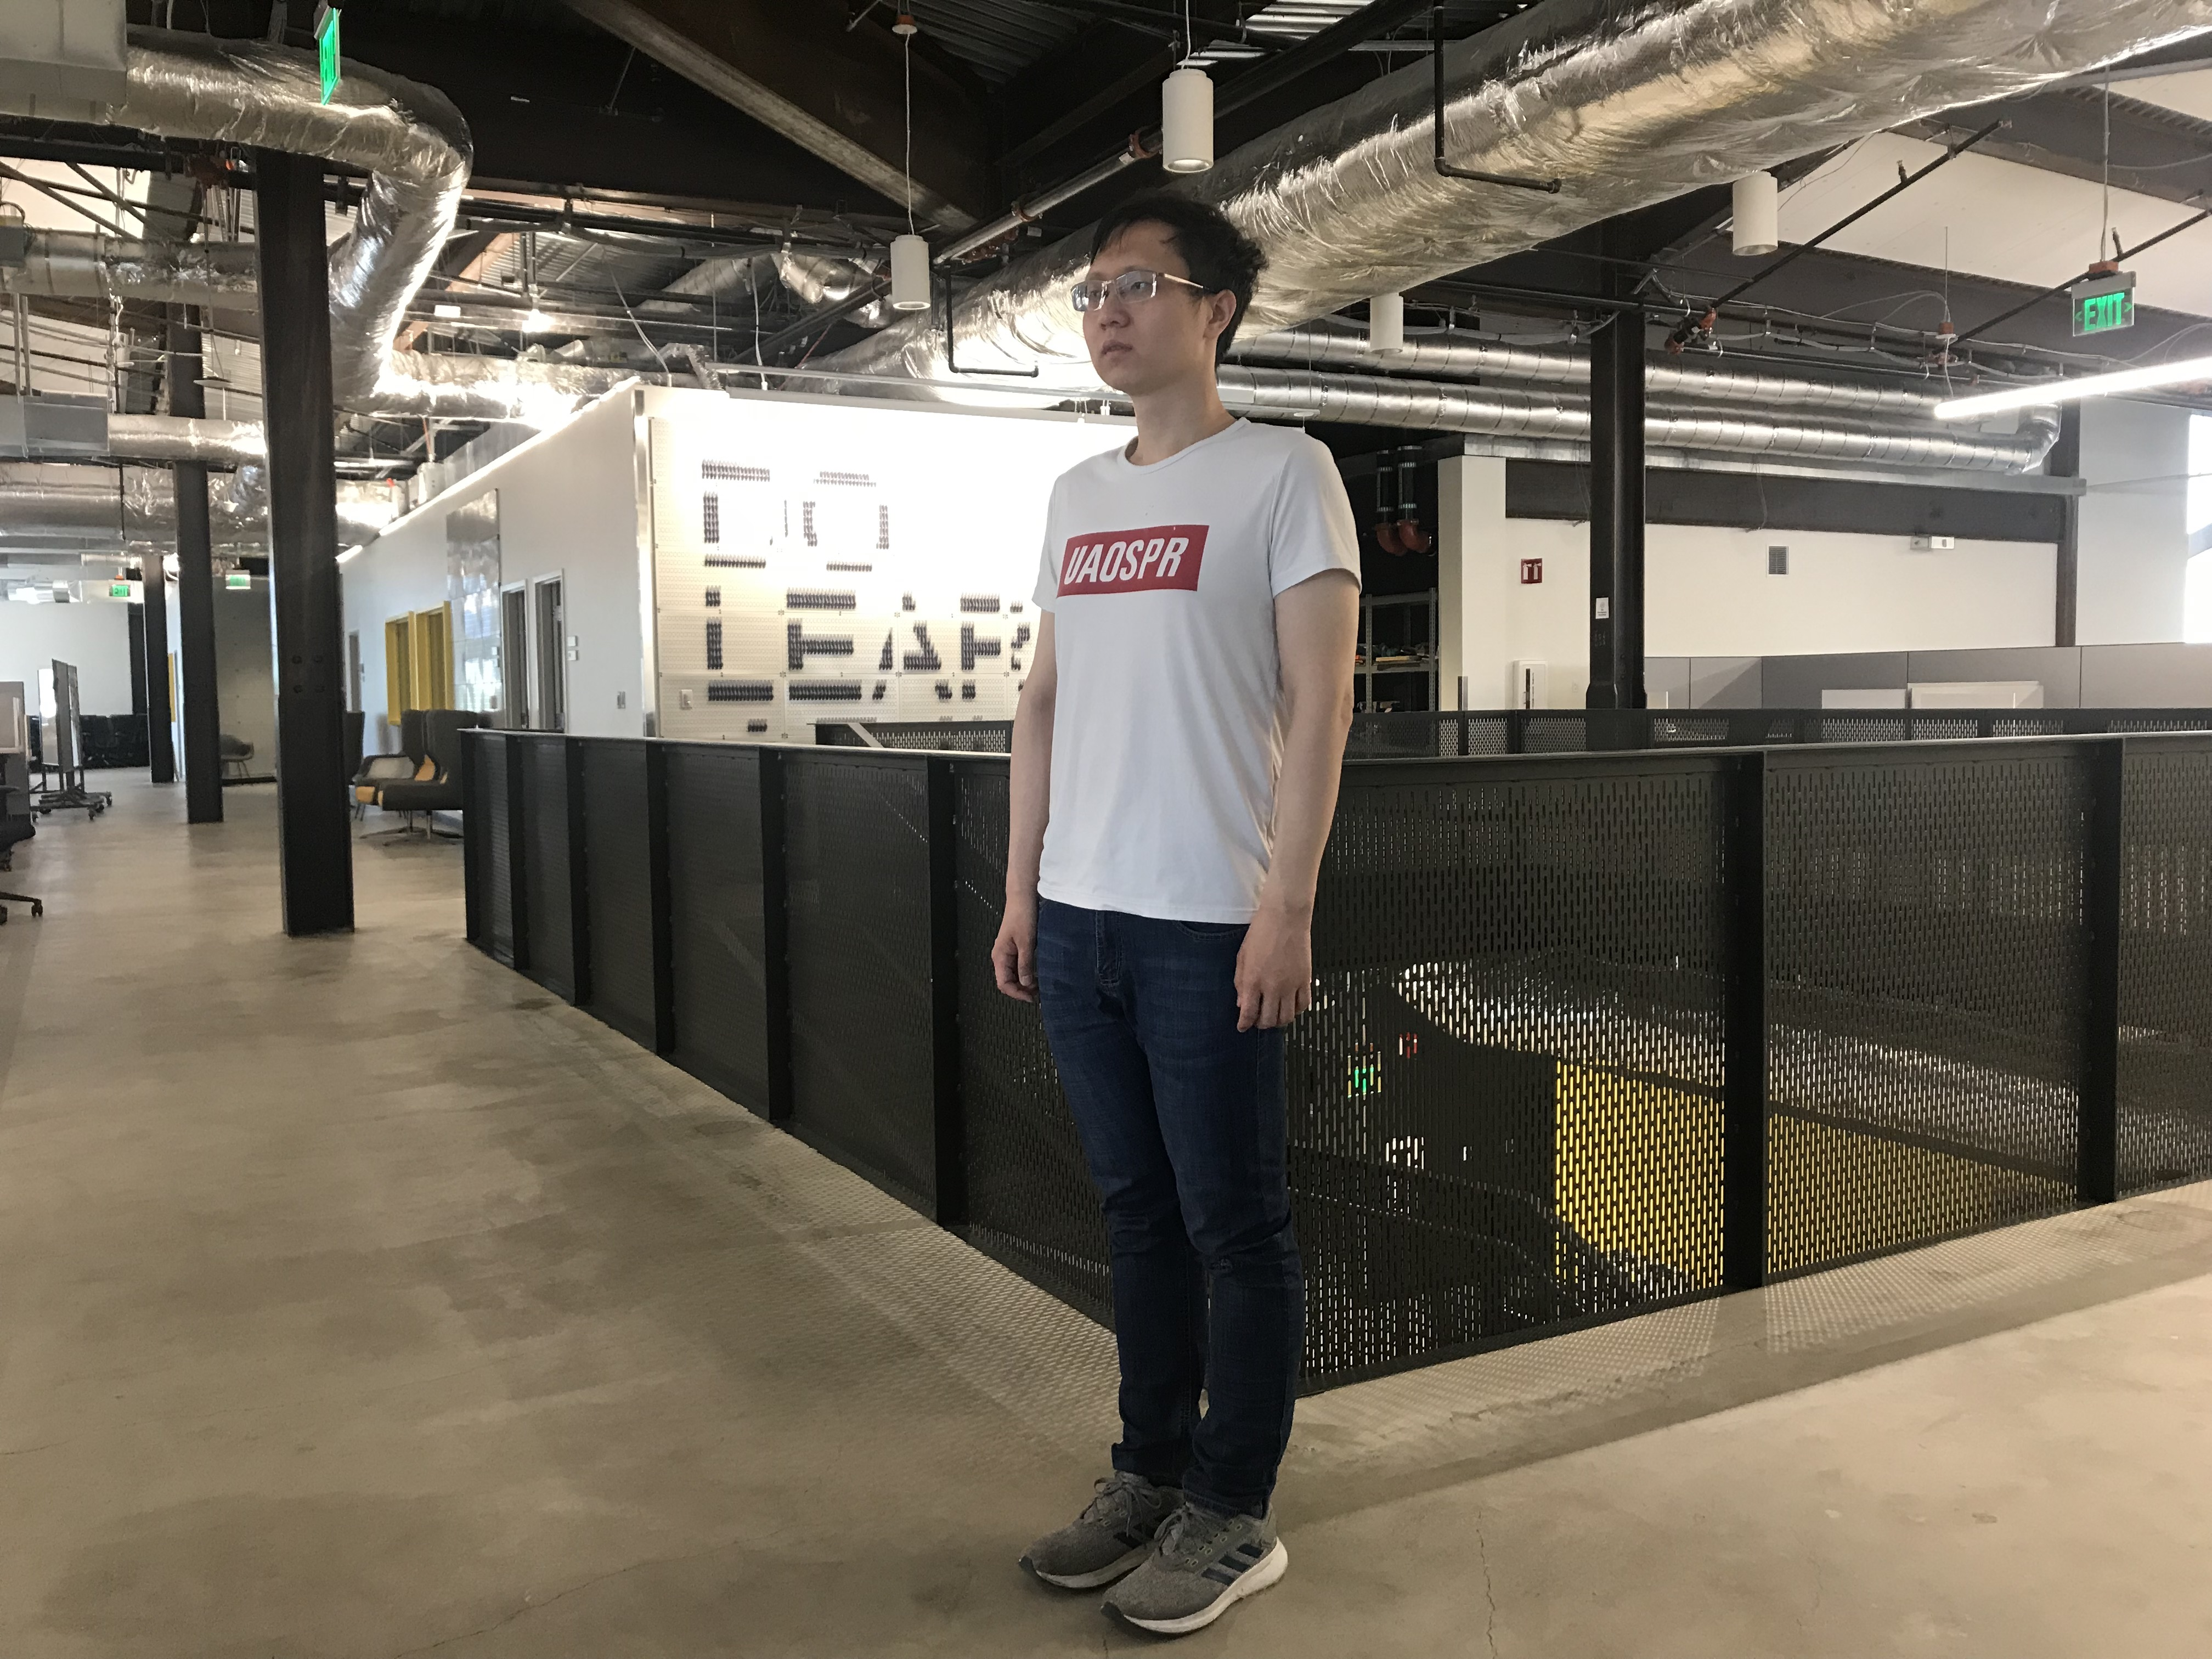attack_zone: (1068, 504, 1263, 859), (2073, 82, 2088, 108)
